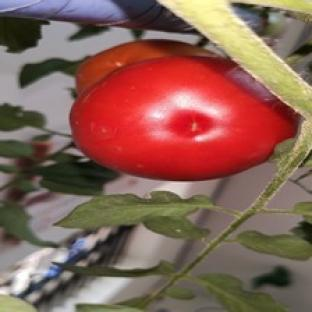Tomato: (70, 56, 298, 181), (76, 39, 213, 93)
